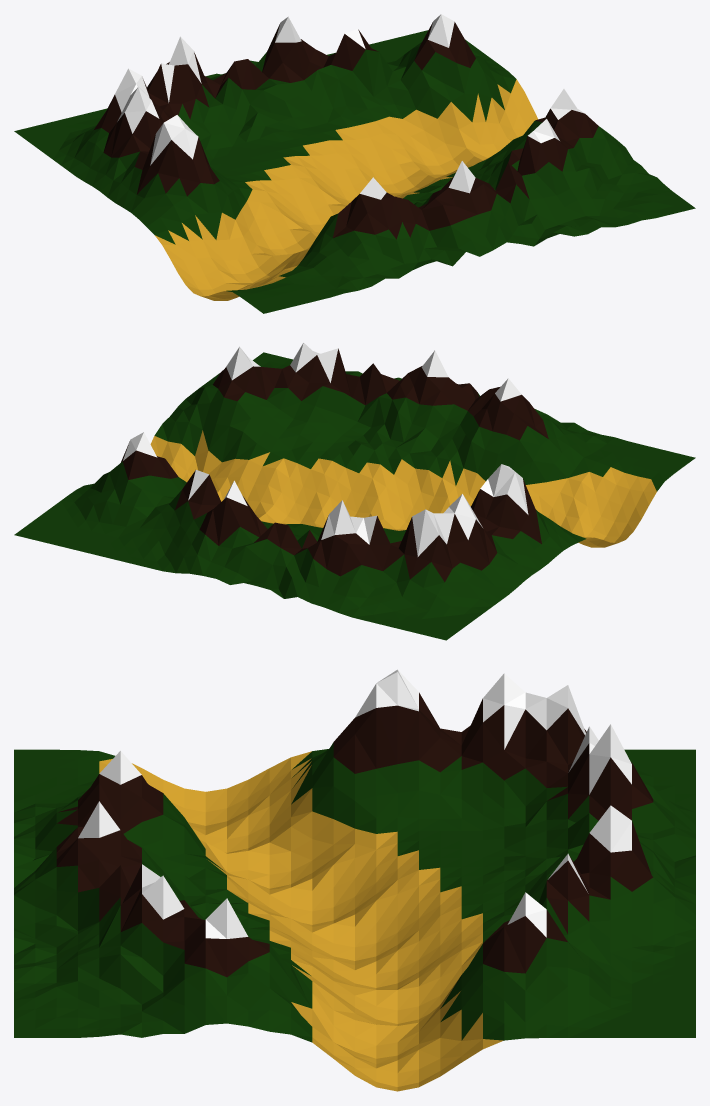
The model's file is riverland.obj.
3 renders of one model, top to bottom at view 1: azimuth 30°, elevation 25°; view 2: azimuth 150°, elevation 25°; view 3: azimuth 270°, elevation 25°, orthographic. The views are drawn at different scales.
Visible parts, largest first — view 1: Plane; view 2: Plane; view 3: Plane.
Part boxes in pixels (left/top/right/bottom): Plane: left=14, top=14, right=695, bottom=313; Plane: left=14, top=342, right=695, bottom=640; Plane: left=14, top=669, right=695, bottom=1091.
Bounding box in the file's own units: 32 × 9.01 × 32.
